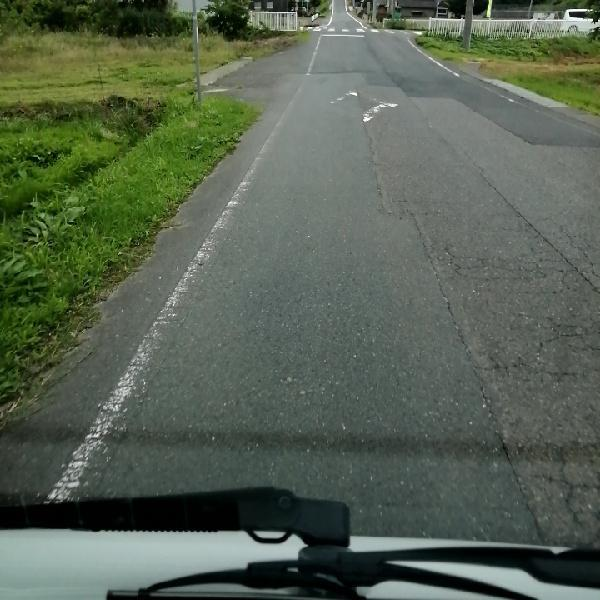D20: (456, 211, 595, 392), (507, 400, 596, 540)
D44: (45, 129, 277, 493), (323, 85, 400, 171)
